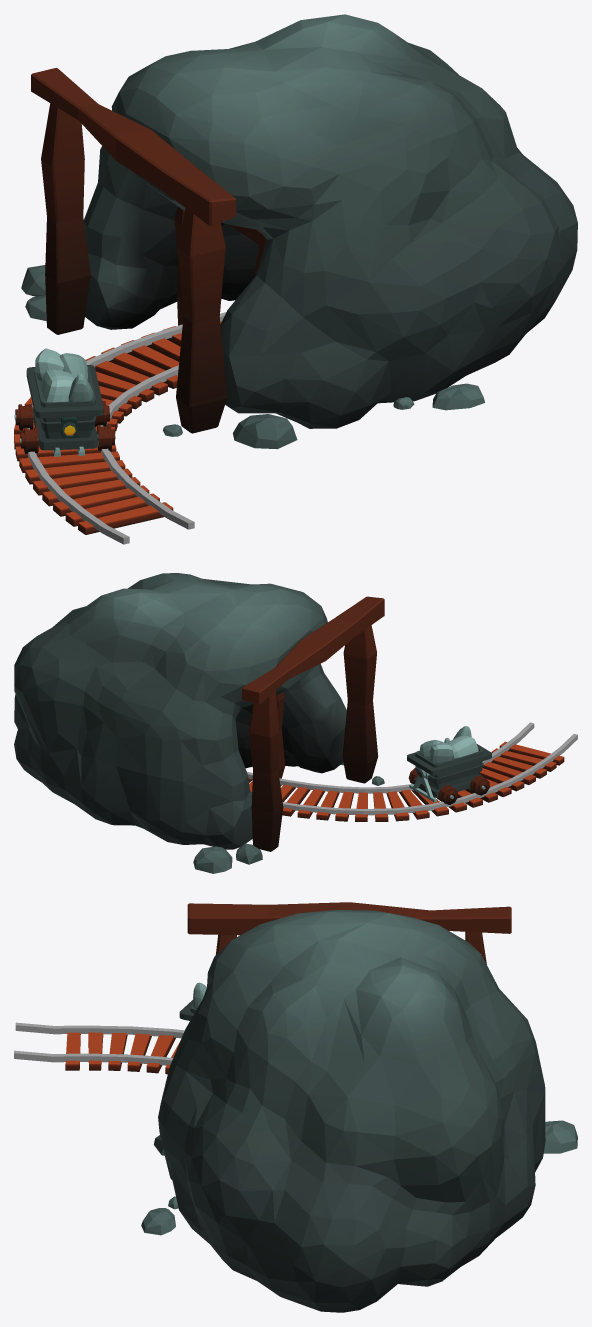
File: FBX_Mine 1.fbx
3 renders of one model, top to bottom at view 1: azimuth 30°, elevation 25°; view 2: azimuth 150°, elevation 25°; view 3: azimuth 270°, elevation 25°, orthographic. The views are drawn at different scales.
Parts seen in each view (by area): view 1: M_Mine_BigStone, M_Mine_Frame001, M_Mine_Railway, M_Mine_Carriage, M_Mine_Stone, M_Mine_Frame002; view 2: M_Mine_BigStone, M_Mine_Frame001, M_Mine_Railway, M_Mine_Carriage, M_Mine_Stone, M_Mine_Frame002; view 3: M_Mine_BigStone, M_Mine_Frame001, M_Mine_Railway, M_Mine_Stone.
Boxes of the visible parts, box(x1,y1,x2,y2) form: M_Mine_BigStone: box(83, 14, 577, 428); M_Mine_Frame001: box(31, 68, 236, 433); M_Mine_Railway: box(14, 312, 226, 544); M_Mine_Carriage: box(14, 348, 115, 456); M_Mine_Stone: box(21, 265, 484, 449); M_Mine_Frame002: box(174, 206, 266, 325); M_Mine_BigStone: box(14, 573, 346, 849); M_Mine_Frame001: box(242, 596, 384, 851); M_Mine_Railway: box(247, 722, 577, 821); M_Mine_Carriage: box(407, 726, 491, 804); M_Mine_Stone: box(193, 762, 384, 873); M_Mine_Frame002: box(276, 691, 285, 778); M_Mine_BigStone: box(158, 910, 545, 1312); M_Mine_Frame001: box(187, 902, 511, 964); M_Mine_Railway: box(14, 1022, 184, 1074); M_Mine_Stone: box(141, 1120, 577, 1235).
Bounding box in the file's own units: 6319 × 2963 × 5403.
